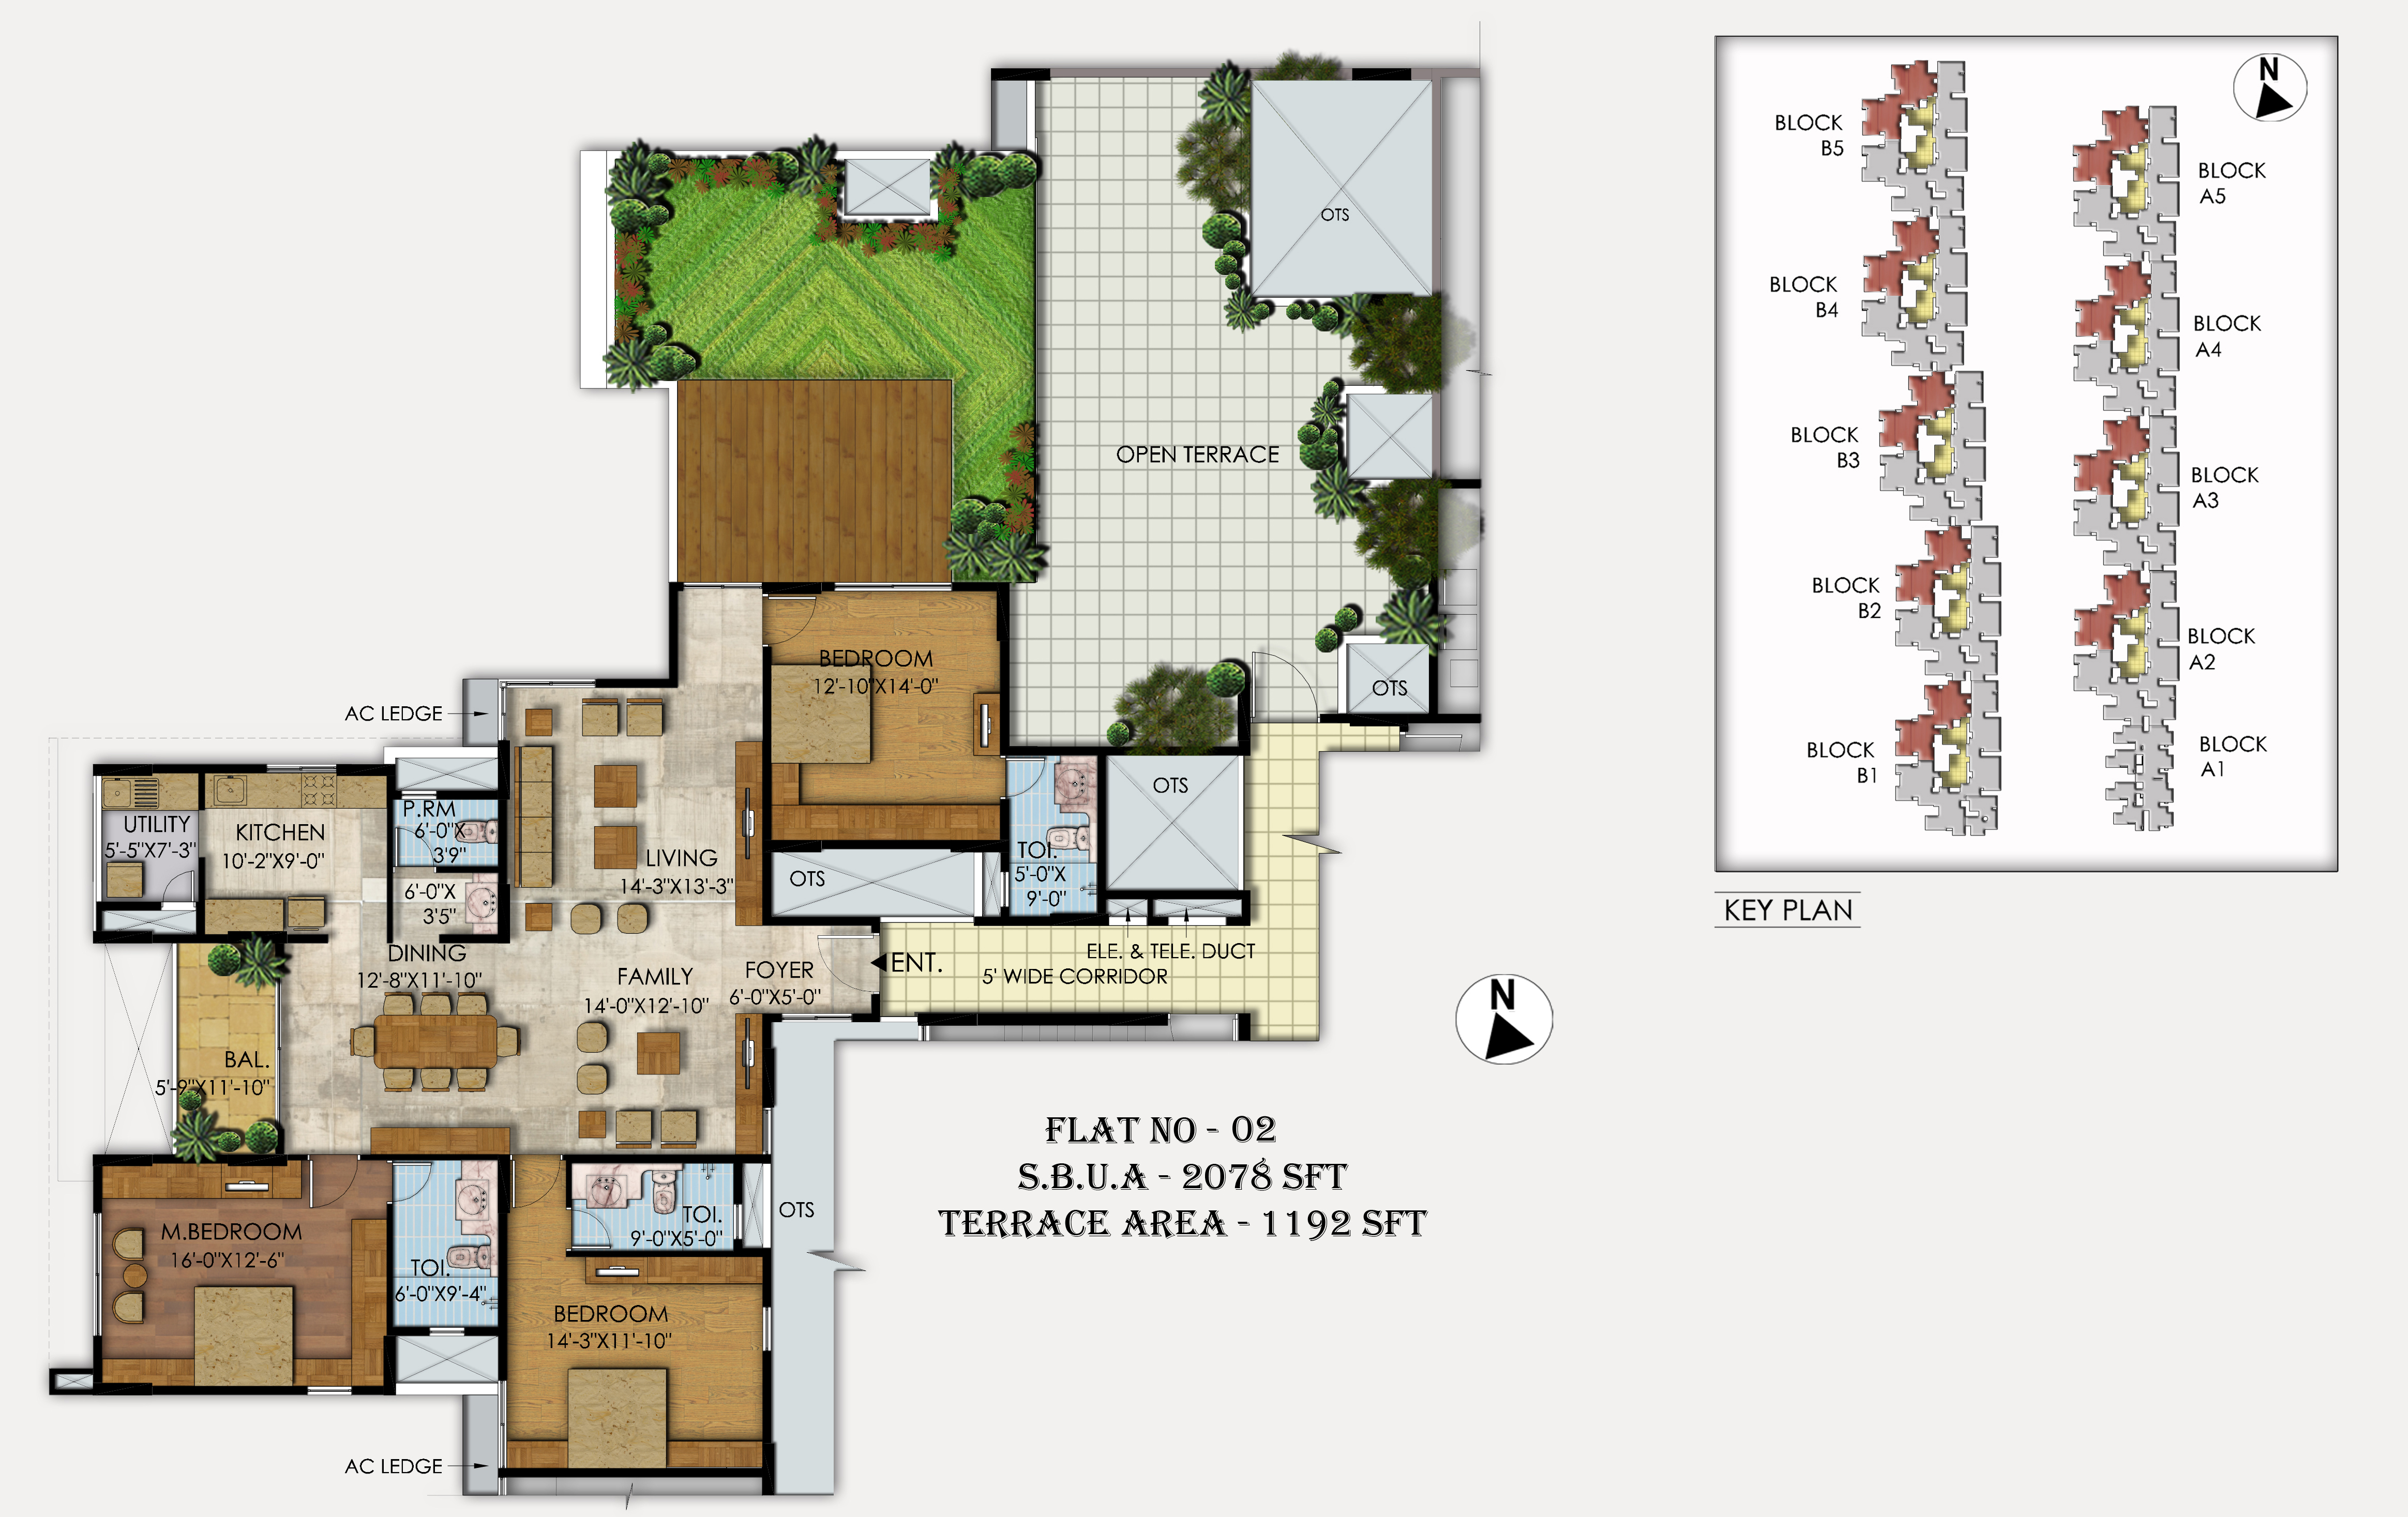door: (1249, 650, 1321, 724), (816, 935, 872, 994), (306, 1160, 358, 1211), (510, 1159, 561, 1211), (570, 1206, 615, 1251), (390, 1160, 433, 1206), (1005, 757, 1048, 797), (161, 867, 194, 907)
